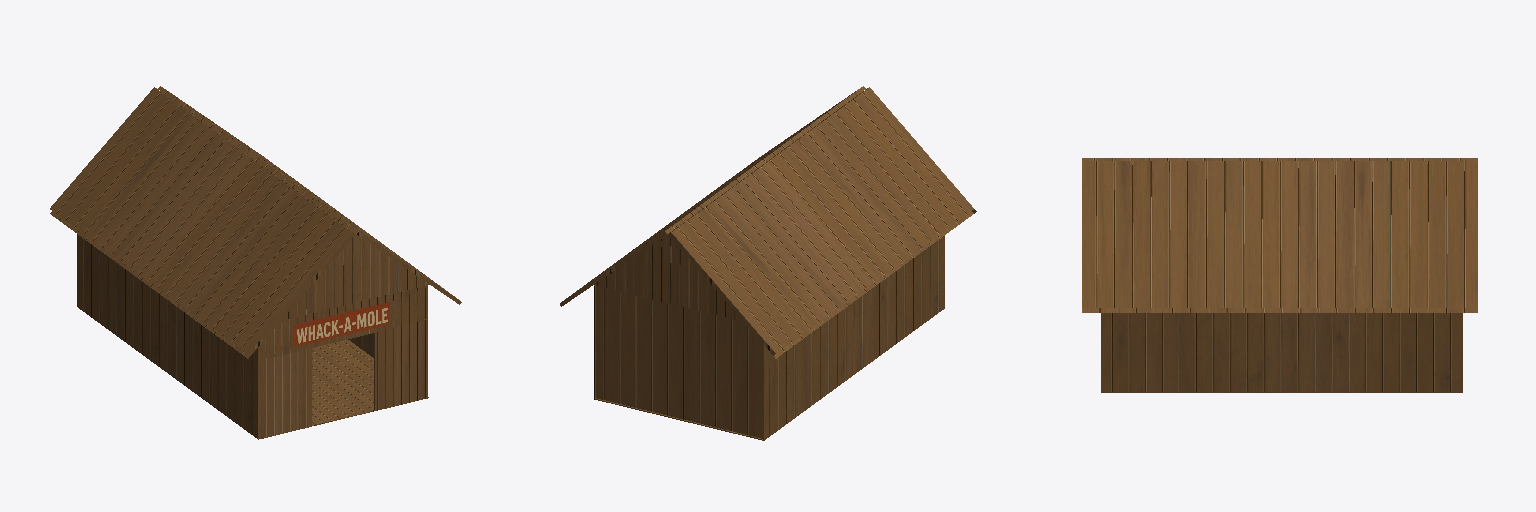
The picture shows the model from 3 angles: view 1: azimuth 30°, elevation 25°; view 2: azimuth 150°, elevation 25°; view 3: azimuth 270°, elevation 25°; orthographic projection.
Visible parts, largest first — view 1: TechoI, ParedI, Rotulo, FrontonD, Piso, ParedDD, ParedDI, TechoD; view 2: TechoI, ParedT, ParedI, FrontonTT, TechoD; view 3: TechoD, ParedD, TechoI.
Part boxes in pixels (x1,y1,x2,y2): TechoI: (50,87,355,358); ParedI: (77,234,258,438); Rotulo: (259,285,427,360); FrontonD: (281,226,429,320); Piso: (258,340,428,439); ParedDD: (374,320,427,410); ParedDI: (259,348,311,438); TechoD: (158,86,461,304); TechoI: (668,87,976,358); ParedT: (596,286,762,438); ParedI: (763,236,944,440); FrontonTT: (594,226,742,321); TechoD: (560,86,865,306); TechoD: (1082,161,1477,312); ParedD: (1101,313,1462,391); TechoI: (1082,158,1477,160).
Bounding box in the file's own units: 24.87 × 20.96 × 38.94.
2 materials, 2 textured.